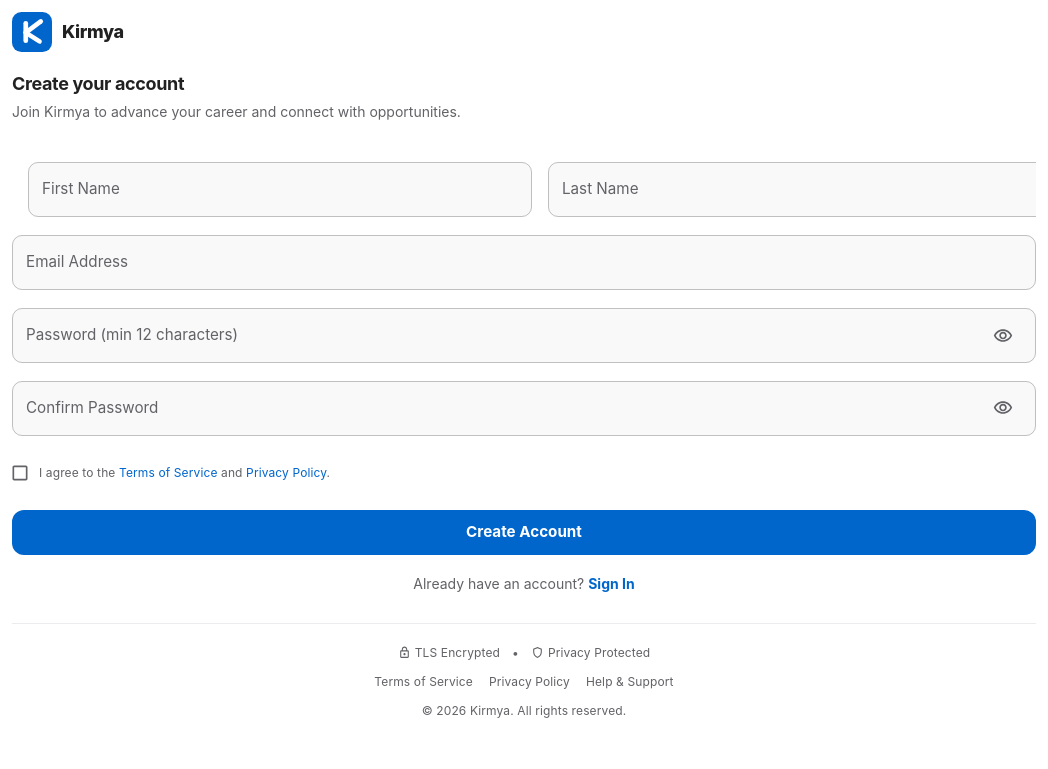
Test: Authentication & Account Recovery Experience (Prompt 18/50) › SignUpForm Component › validates required fields on empty submit
Click the button "Create Account". click: (524, 532)
box: [12,510,1036,555]
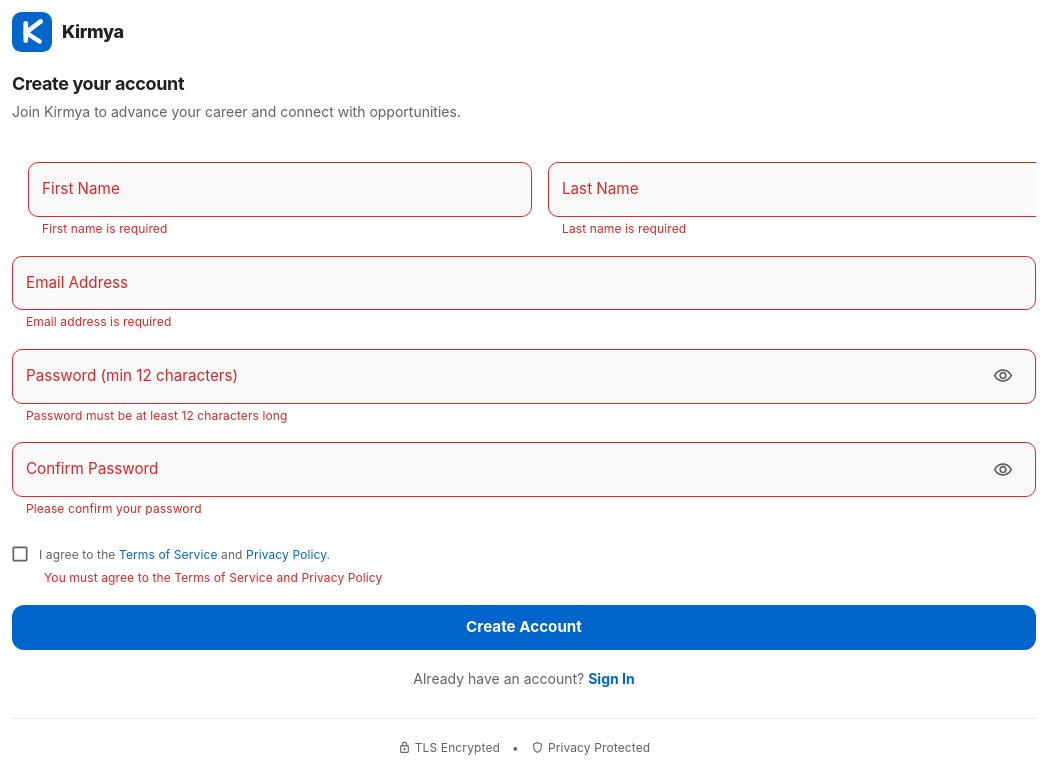
Expected: the text "First name is required" is shown, [42,221,167,236]
Expected: the text "Last name is required" is shown, [562,221,686,236]
Expected: the text "Email address is required" is shown, [26,314,171,330]
